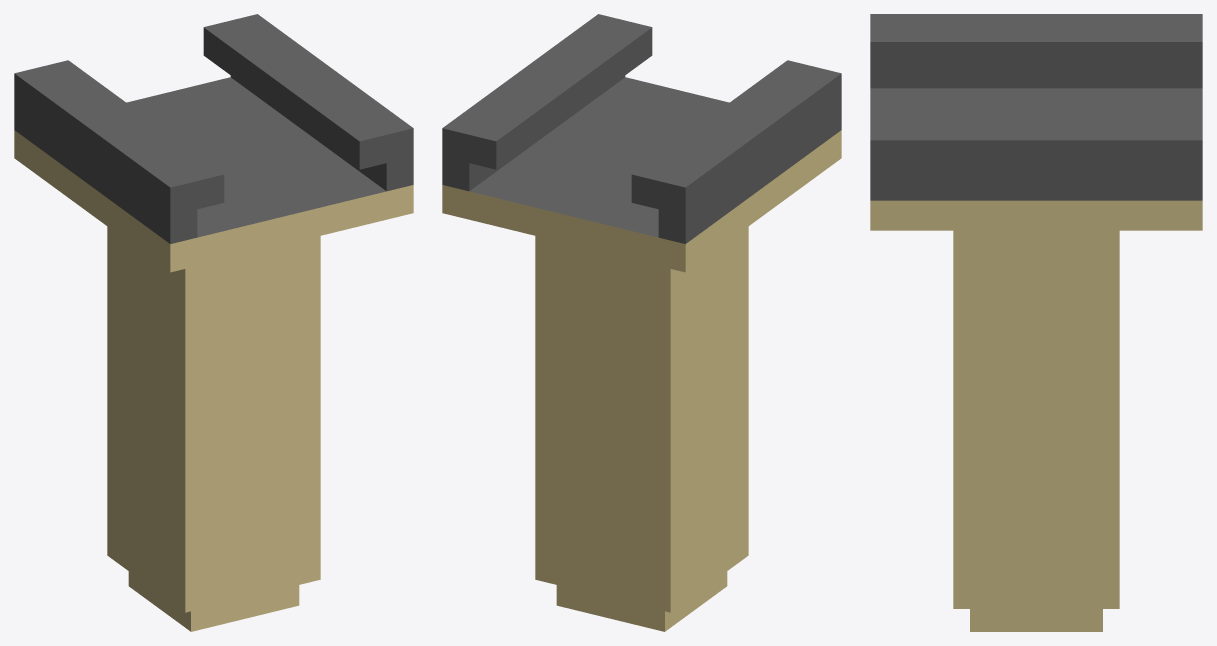
The model's file is assault_rifle_frontGrip.fbx.
3 views of the same model, side by side, from view 1: azimuth 30°, elevation 25°; view 2: azimuth 150°, elevation 25°; view 3: azimuth 270°, elevation 25° (orthographic). The views are drawn at different scales.
Parts seen in each view (by area): view 1: assault_rifle_frontGrip; view 2: assault_rifle_frontGrip; view 3: assault_rifle_frontGrip.
Part boxes in pixels (x1,y1,x2,y2): assault_rifle_frontGrip: (14,14,413,631); assault_rifle_frontGrip: (442,14,841,631); assault_rifle_frontGrip: (870,14,1202,631).
Size of the model in its own units: 10.8 by 21 by 12.
